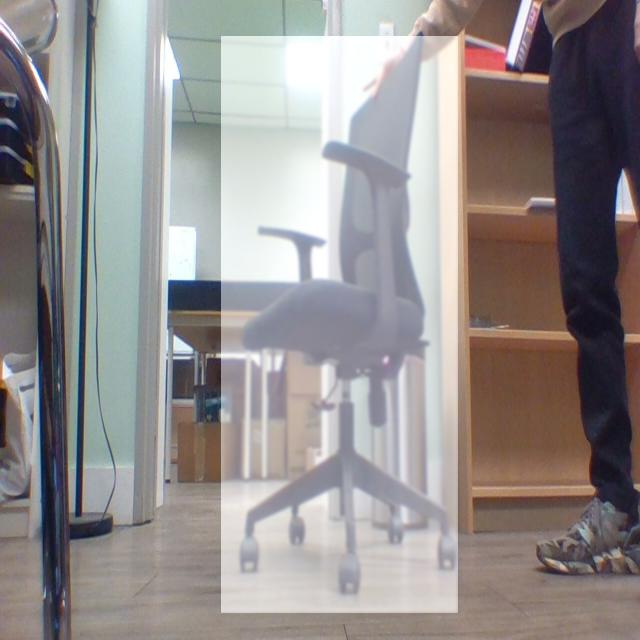black-chair: (221, 36, 459, 614)
